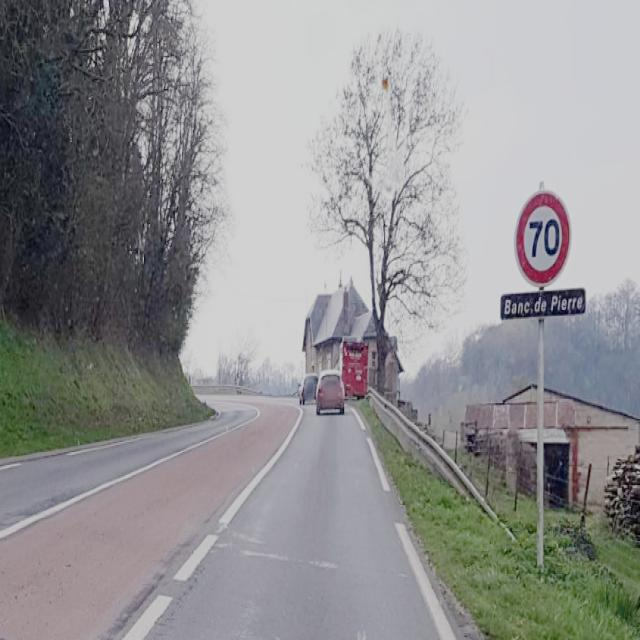speed_70: (516, 191, 571, 284)
